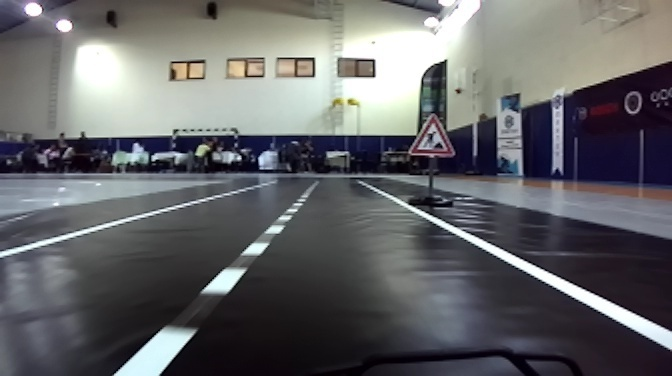yol_yapimi: (405, 110, 460, 162)
